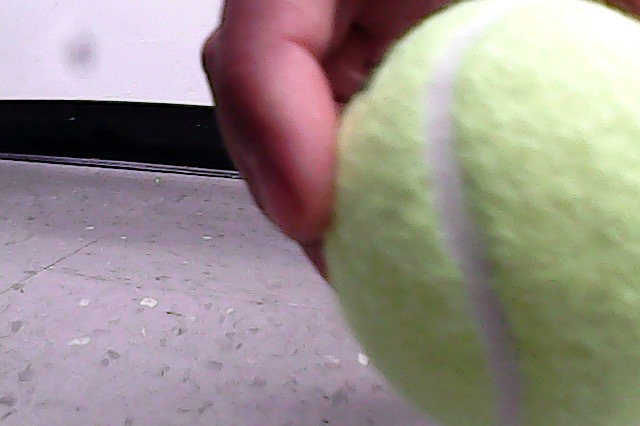ball: (324, 1, 640, 425)
